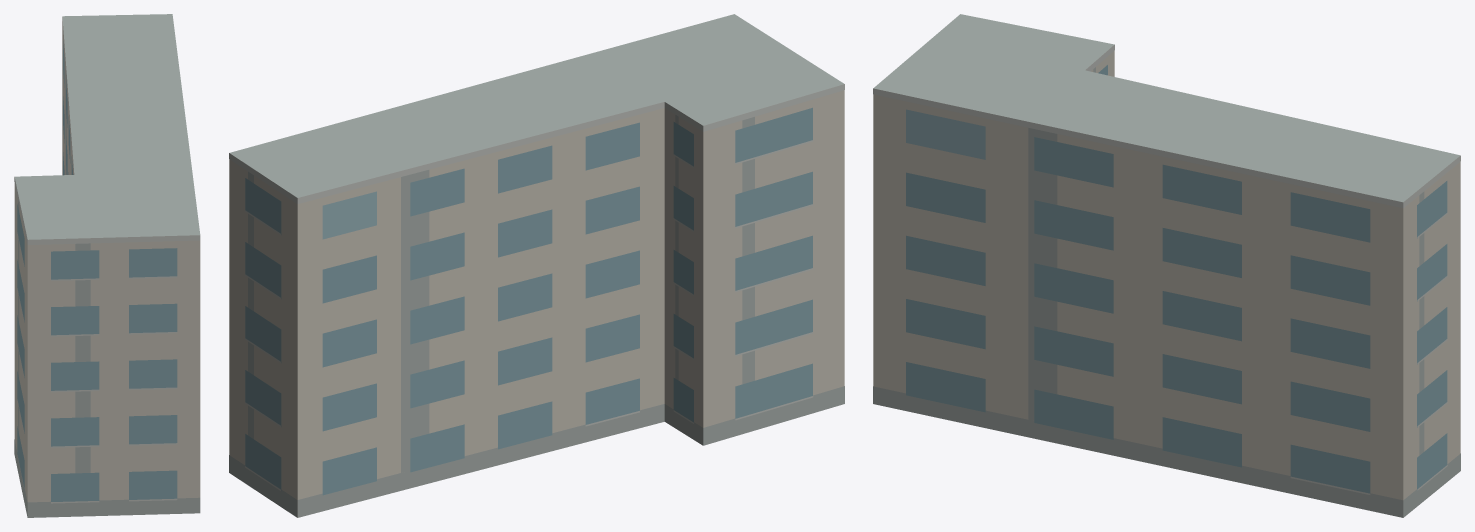
File: survey-upis-33021563.glb
3 renders of one model, left to right at view 1: azimuth 30°, elevation 25°; view 2: azimuth 150°, elevation 25°; view 3: azimuth 270°, elevation 25°, orthographic. The views are drawn at different scales.
Visible parts, largest first — view 1: survey-upis-33021563.tmp; view 2: survey-upis-33021563.tmp; view 3: survey-upis-33021563.tmp.
Part boxes in pixels (x1,y1,x2,y2): survey-upis-33021563.tmp: (14,14,200,517); survey-upis-33021563.tmp: (229,14,844,517); survey-upis-33021563.tmp: (873,14,1460,517).
Bounding box in the file's own units: 16.39 × 12.8 × 21.61.
